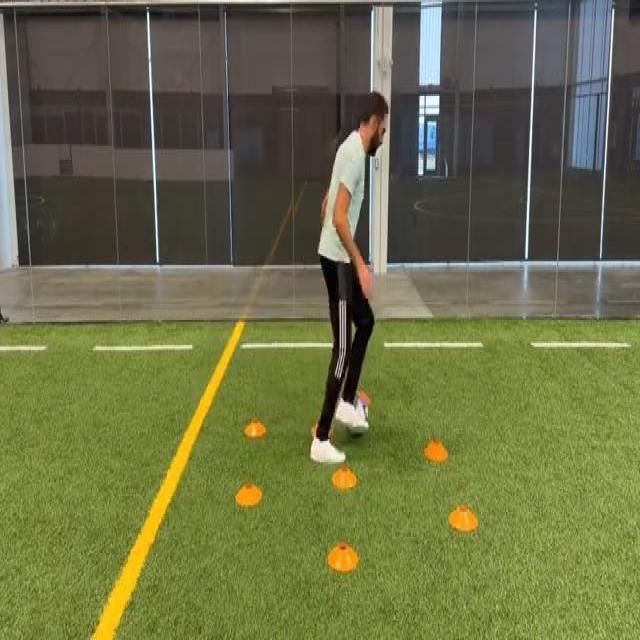Soccer Ball: (344, 388, 369, 439)
